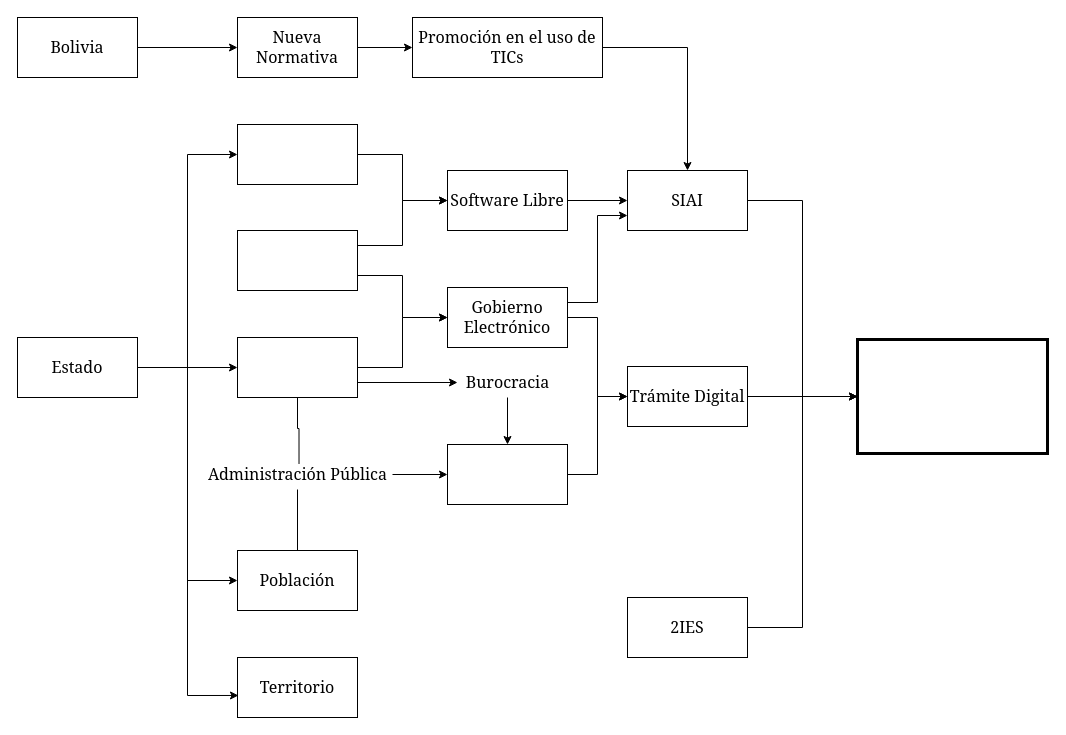
This 1066x735 diagram has some shape labels left out. The centre of each missing label's shape, as x and y in pixels:
"Gobierno" goes at [297,367].
"Identificación de características comunes a todos los trámites digitales" goes at [952,396].
"Soberanía" goes at [297,154].
"TICs" goes at [297,260].
"Trámite tradicional" goes at [507,474].
